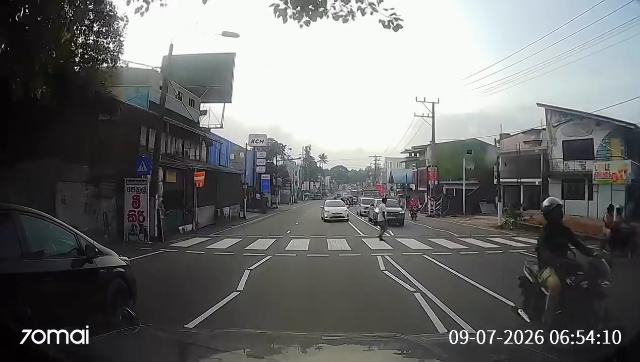illegal overtaking: (317, 202, 352, 223)
